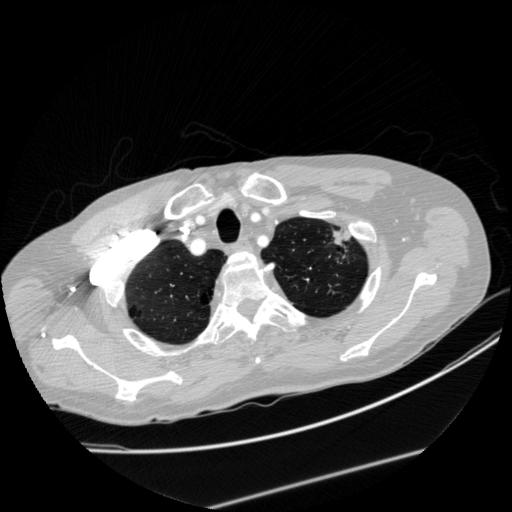nodule: (328, 226, 352, 250)
